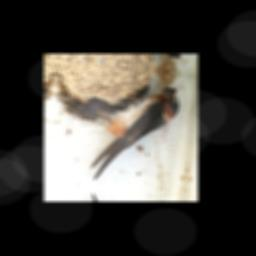Swallow: (88, 76, 181, 194)
